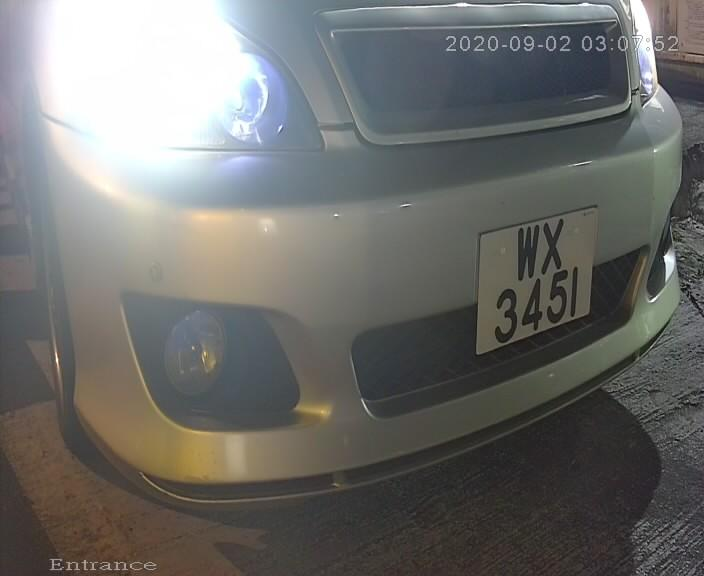License Plate: (472, 193, 601, 366)
